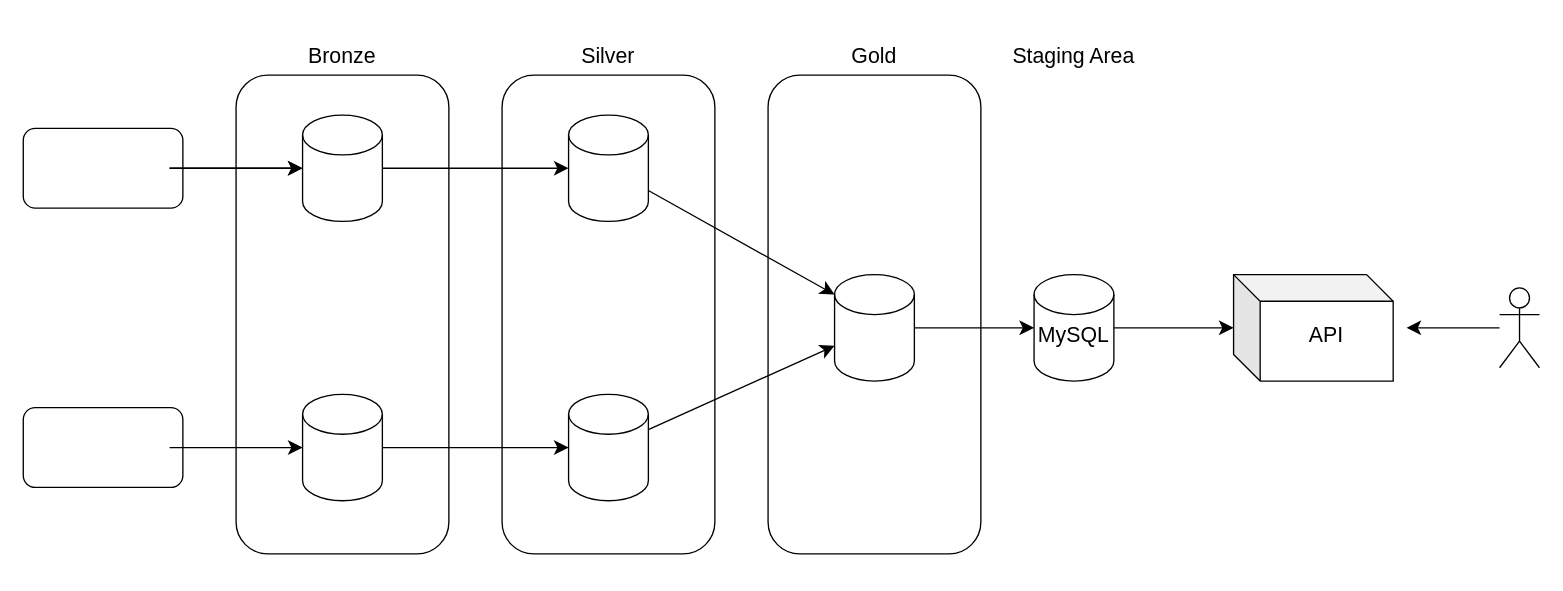
Image size: 1563x591. Some labels were removed from this diagram. Here are the shapes that lost their labels. From the top down, the box of each, then its label:
(22, 127, 183, 208): Event Kafka Stream
(22, 406, 183, 487): Order Item Kafka Stream
